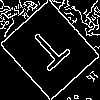T: (25, 25, 78, 79)
